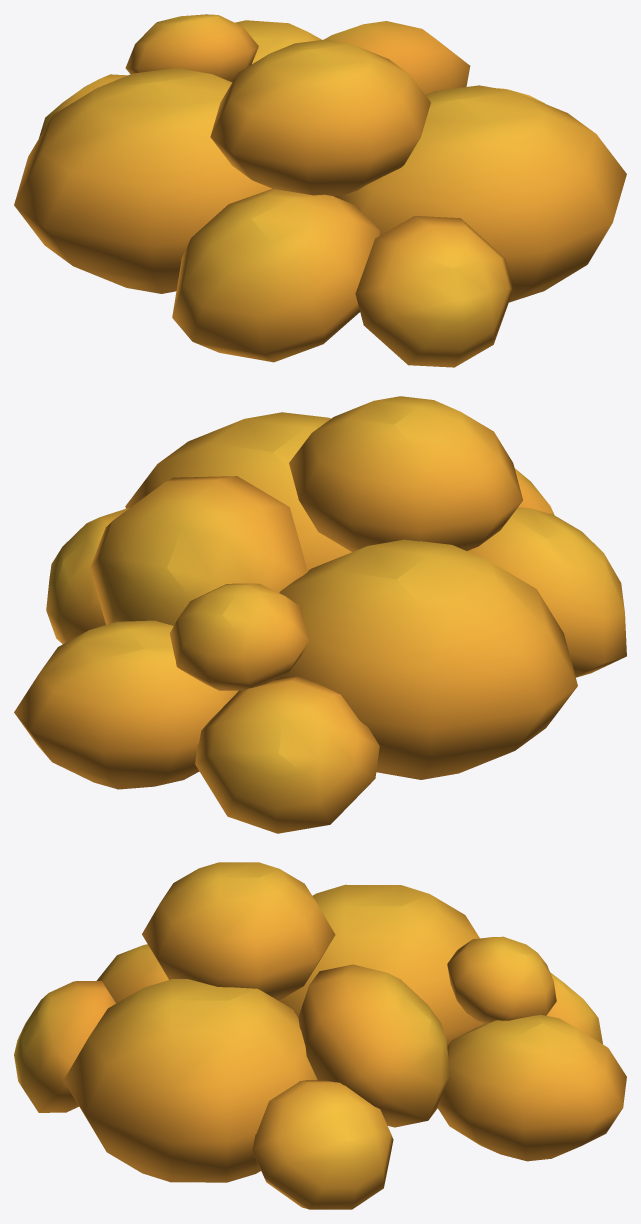
The model's file is nuggets_gold_pile.fbx.
The picture shows the model from 3 angles, top to bottom: view 1: azimuth 30°, elevation 25°; view 2: azimuth 150°, elevation 25°; view 3: azimuth 270°, elevation 25°; orthographic projection. The views are drawn at different scales.
Parts seen in each view (by area): view 1: nuggets_gold_pile; view 2: nuggets_gold_pile; view 3: nuggets_gold_pile.
Boxes of the visible parts, x1,y1,x2,y2 form: nuggets_gold_pile: (14, 14, 626, 367); nuggets_gold_pile: (14, 396, 626, 833); nuggets_gold_pile: (14, 862, 626, 1209).
Size of the model in its own units: 152 by 70.1 by 173.
1 material, 1 textured.
